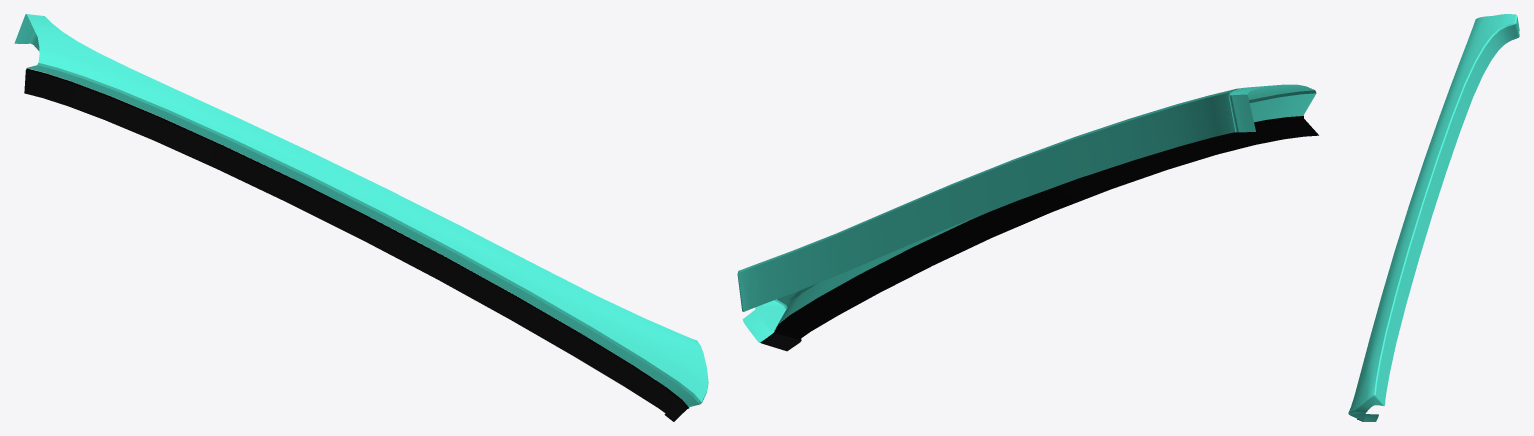
The picture shows the model from 3 angles, left to right: view 1: azimuth 30°, elevation 25°; view 2: azimuth 150°, elevation 25°; view 3: azimuth 270°, elevation 25°; orthographic projection. The views are drawn at different scales.
Parts seen in each view (by area): view 1: H025_10_181C_R_1_DaS_H025_10_181C_R, H025_10_181C_R_H025_10_181C_R_2_D, H025_10_181C_R_1_DaS_H025_10_181C_R_E; view 2: H025_10_181C_R_1_DaS_H025_10_181C_R, H025_10_181C_R_H025_10_181C_R_2_D, H025_10_181C_R_1_DaS_H025_10_181C_R_E; view 3: H025_10_181C_R_1_DaS_H025_10_181C_R, H025_10_181C_R_1_DaS_H025_10_181C_R_E.
Boxes of the visible parts, x1,y1,x2,y2 form: H025_10_181C_R_1_DaS_H025_10_181C_R: [14, 14, 708, 407]; H025_10_181C_R_H025_10_181C_R_2_D: [24, 68, 688, 421]; H025_10_181C_R_1_DaS_H025_10_181C_R_E: [25, 14, 708, 404]; H025_10_181C_R_1_DaS_H025_10_181C_R: [737, 84, 1316, 342]; H025_10_181C_R_H025_10_181C_R_2_D: [760, 115, 1318, 351]; H025_10_181C_R_1_DaS_H025_10_181C_R_E: [737, 88, 1316, 309]; H025_10_181C_R_1_DaS_H025_10_181C_R: [1348, 14, 1519, 421]; H025_10_181C_R_1_DaS_H025_10_181C_R_E: [1348, 15, 1517, 413].
Size of the model in its own units: 64.84 by 46.33 by 27.97.
